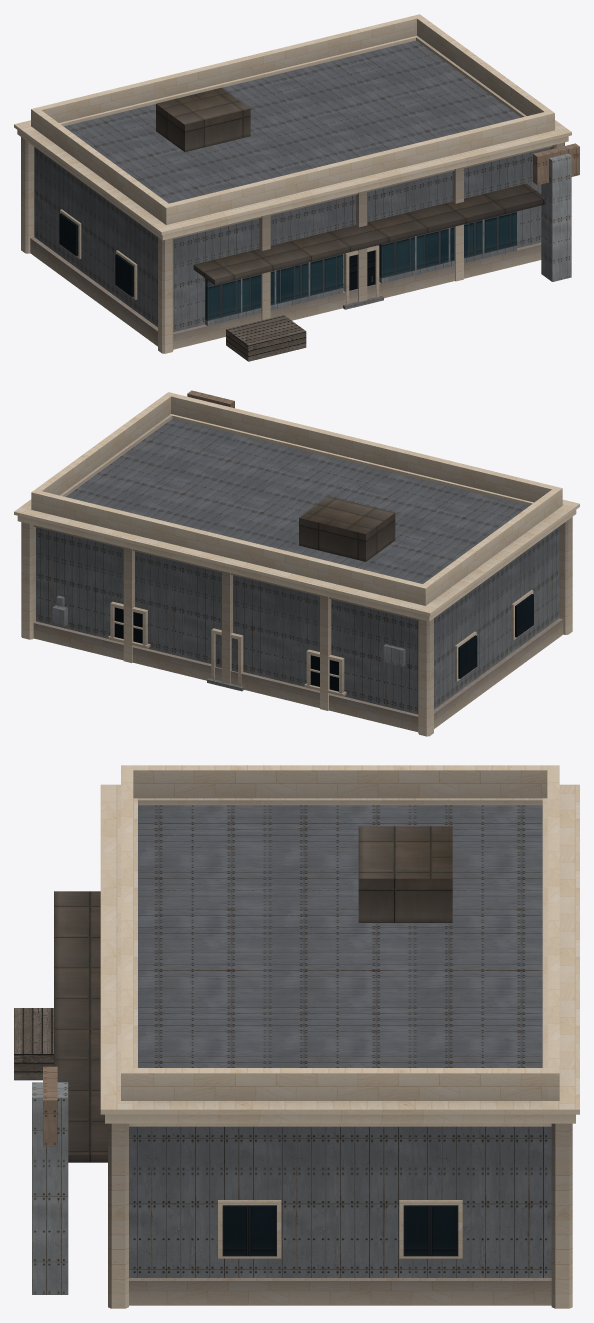
File: neighborhood-diner_lod0.gltf
3 renders of one model, top to bottom at view 1: azimuth 30°, elevation 25°; view 2: azimuth 150°, elevation 25°; view 3: azimuth 270°, elevation 25°, orthographic. The views are drawn at different scales.
Visible parts, largest first — view 1: neighborhood-diner_main, neighborhood-diner__v4_stone_detail, neighborhood-diner__v4_metal_detail, neighborhood-diner_fen_07-glass-curtain-blue_1, neighborhood-diner__neon_pylon, neighborhood-diner__tables, neighborhood-diner_fen_14-steel-panel_0, neighborhood-diner_fen_07-glass-curtain-blue_3_t, neighborhood-diner_fen_04-limestone_2, neighborhood-diner__neon_cabinet; view 2: neighborhood-diner_main, neighborhood-diner__v4_stone_detail, neighborhood-diner__v4_metal_detail, neighborhood-diner_fen_04-limestone_2, neighborhood-diner_fen_07-glass-curtain-blue_3_t, neighborhood-diner_fen_14-steel-panel_0; view 3: neighborhood-diner_main, neighborhood-diner__v4_stone_detail, neighborhood-diner__v4_metal_detail, neighborhood-diner__neon_pylon, neighborhood-diner_fen_07-glass-curtain-blue_3_t, neighborhood-diner__tables, neighborhood-diner_fen_04-limestone_2, neighborhood-diner__neon_cabinet.
Part boxes in pixels (x1,y1,x2,y2): neighborhood-diner_main: [34, 40, 550, 331]; neighborhood-diner__v4_stone_detail: [14, 14, 571, 353]; neighborhood-diner__v4_metal_detail: [156, 87, 545, 284]; neighborhood-diner_fen_07-glass-curtain-blue_1: [205, 211, 516, 320]; neighborhood-diner__neon_pylon: [541, 153, 571, 281]; neighborhood-diner__tables: [226, 315, 306, 361]; neighborhood-diner_fen_14-steel-panel_0: [205, 219, 516, 325]; neighborhood-diner_fen_07-glass-curtain-blue_3_t: [59, 213, 375, 296]; neighborhood-diner_fen_04-limestone_2: [60, 209, 379, 304]; neighborhood-diner__neon_cabinet: [533, 143, 579, 185]; neighborhood-diner_main: [36, 418, 559, 714]; neighborhood-diner__v4_stone_detail: [14, 392, 579, 736]; neighborhood-diner__v4_metal_detail: [299, 496, 395, 561]; neighborhood-diner_fen_04-limestone_2: [108, 590, 533, 696]; neighborhood-diner_fen_07-glass-curtain-blue_3_t: [114, 594, 533, 691]; neighborhood-diner_fen_14-steel-panel_0: [52, 595, 405, 671]; neighborhood-diner_main: [129, 805, 551, 1277]; neighborhood-diner__v4_stone_detail: [100, 765, 579, 1308]; neighborhood-diner__v4_metal_detail: [54, 826, 452, 1162]; neighborhood-diner__neon_pylon: [32, 1082, 68, 1294]; neighborhood-diner_fen_07-glass-curtain-blue_3_t: [222, 1205, 458, 1256]; neighborhood-diner__tables: [14, 1008, 53, 1080]; neighborhood-diner_fen_04-limestone_2: [218, 1200, 462, 1258]; neighborhood-diner__neon_cabinet: [43, 1066, 57, 1146].
Size of the model in its own units: 21.22 by 7.35 by 15.61.
